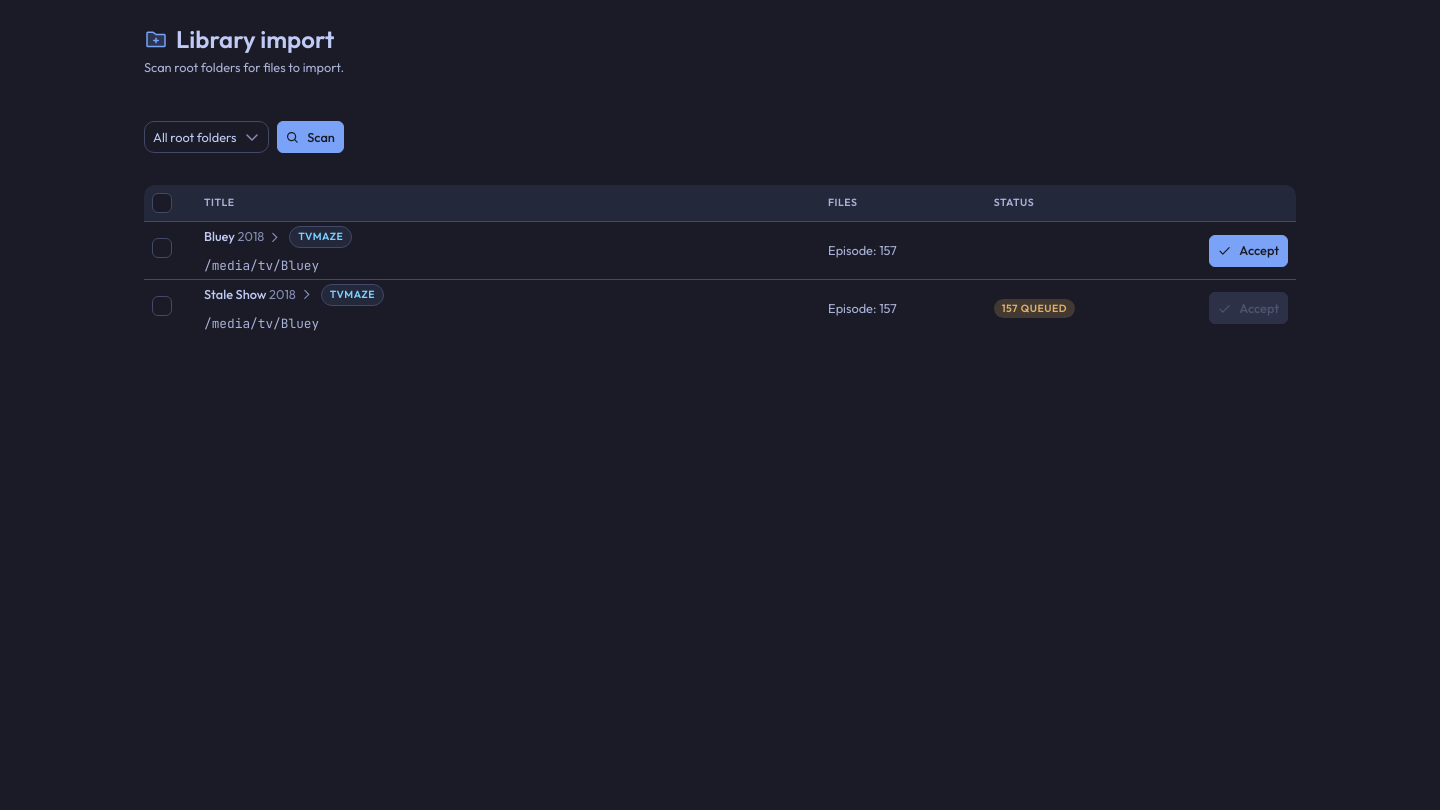
Test: LibraryImportPage › bulk-accepts every selected eligible group and skips a selected ineligible group with a toast
The width and height of the screenshot is (1440, 810).
Expected: the row "Bluey 2018 tvmaze /media/tv/Bluey Episode: 157 Accept" is shown, [144,222,1296,280]
What coordinates should you click on to do the following:
click the checkbox named "Select Bluey"
I would click on:
 (162, 248)
Its box is [152,238,172,258].
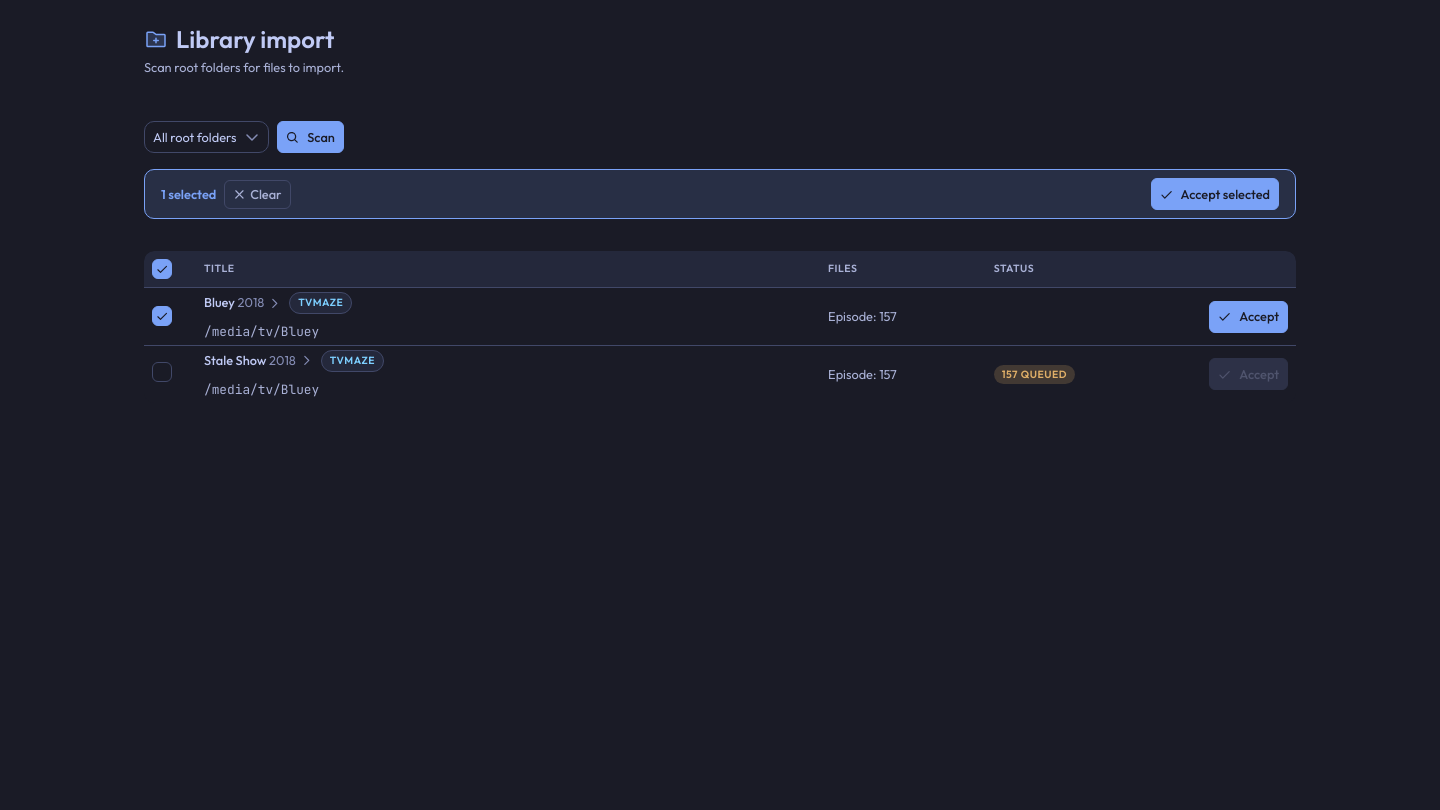
What coordinates should you click on to do the following:
click the checkbox named "Select Stale Show"
I would click on:
 (162, 372)
Its box is [152,362,172,382].
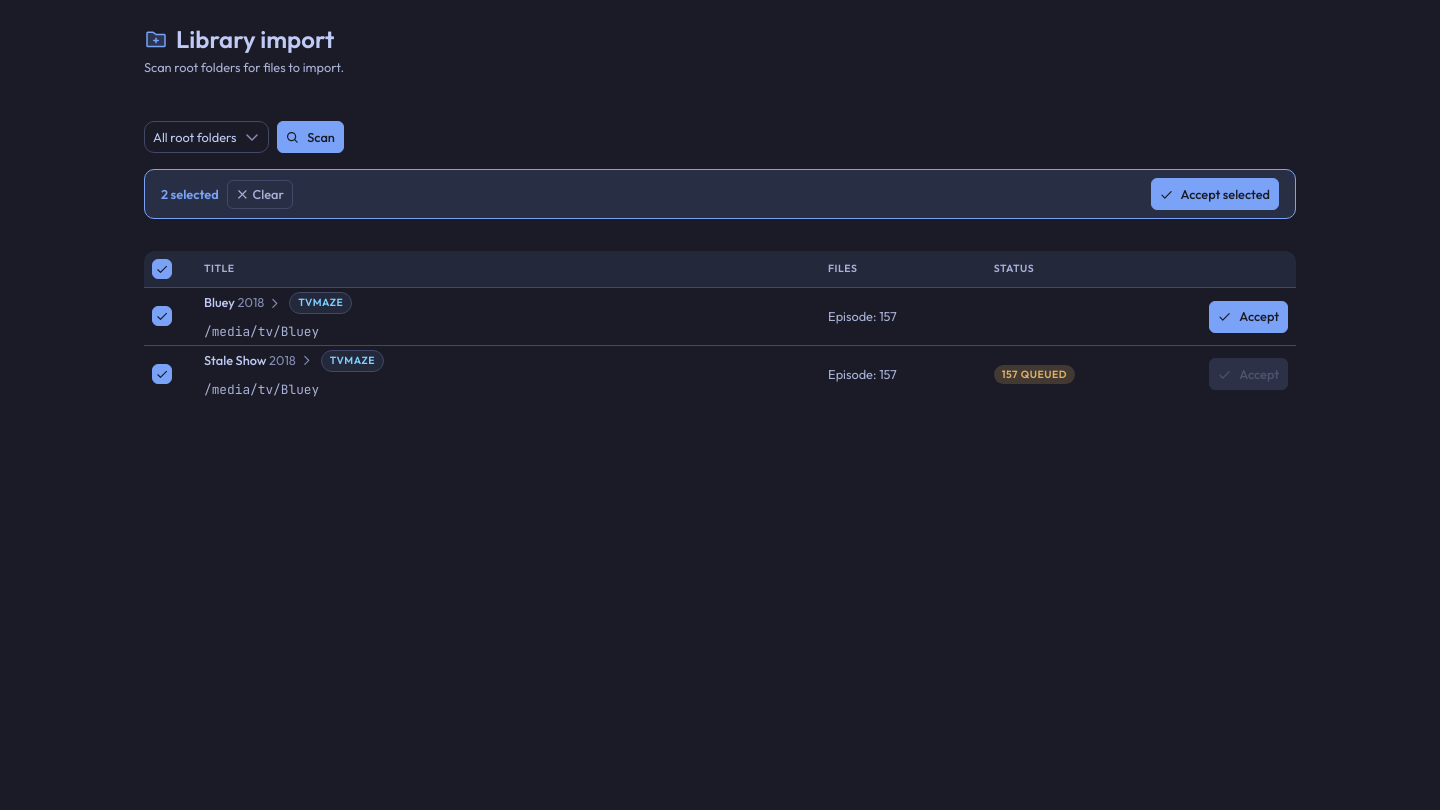
What coordinates should you click on to do the following:
click the button "Accept selected"
I would click on:
 (1215, 194)
Its box is [1151,178,1279,210].
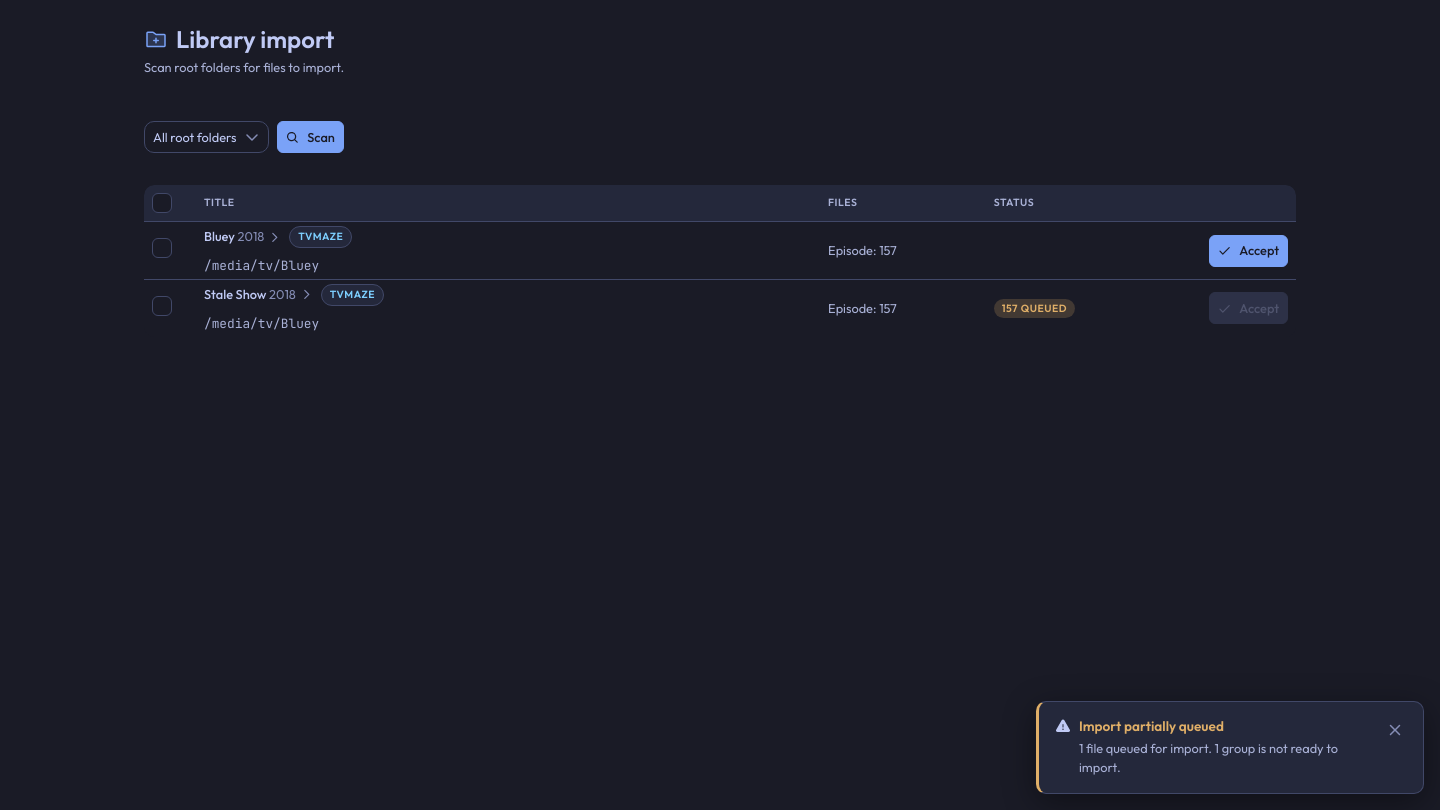
Expected: the text "Import partially queued" is shown, [1079,717,1224,735]
Expected: the text "1 file queued for import. 1 group is not ready to import." is shown, [1079,739,1351,777]
